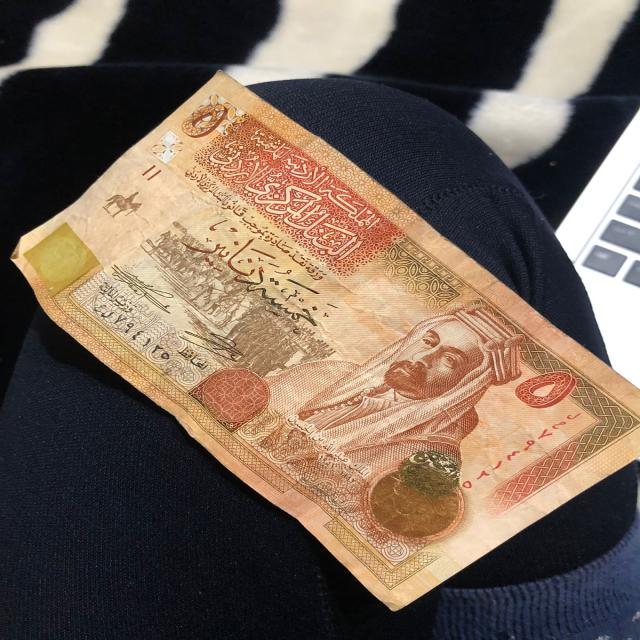5-dinar: (11, 66, 640, 614)
